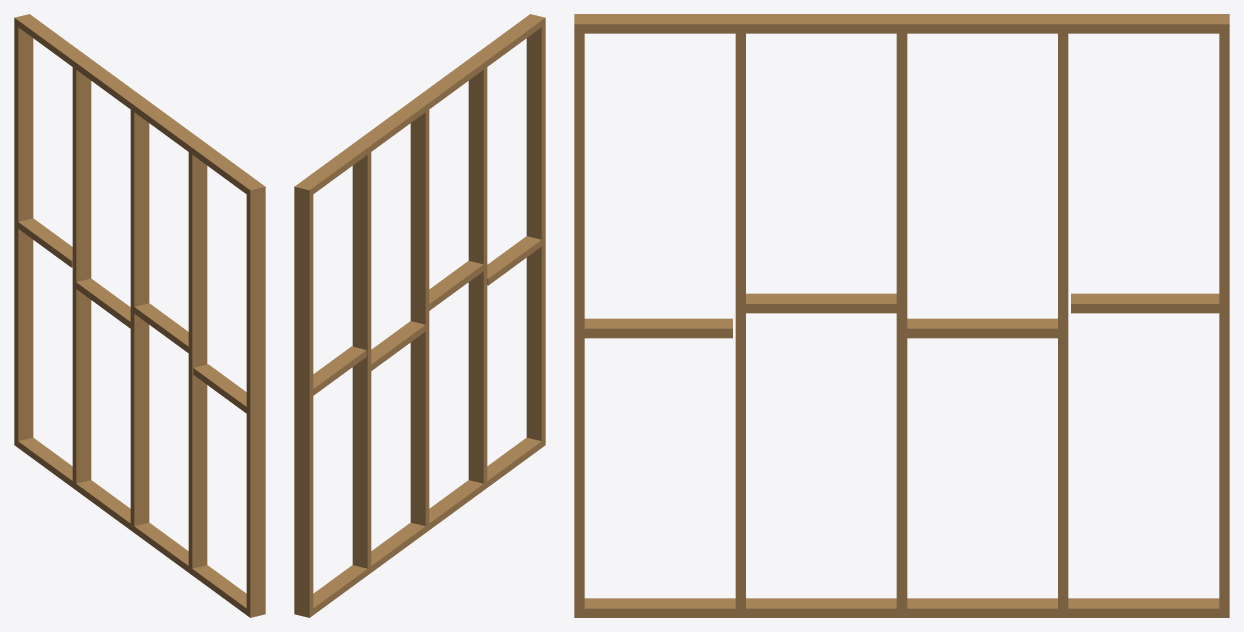
File: structure.wall.stud_panel_timber.glb
3 renders of one model, left to right at view 1: azimuth 30°, elevation 25°; view 2: azimuth 150°, elevation 25°; view 3: azimuth 270°, elevation 25°, orthographic. The views are drawn at different scales.
Parts seen in each view (by area): view 1: main__softwood; view 2: main__softwood; view 3: main__softwood.
Part boxes in pixels (<box>): main__softwood: <box>14,14,265,617</box>; main__softwood: <box>294,14,545,617</box>; main__softwood: <box>574,14,1229,617</box>.
Size of the model in its own units: 0.089 by 2.4 by 2.4.
